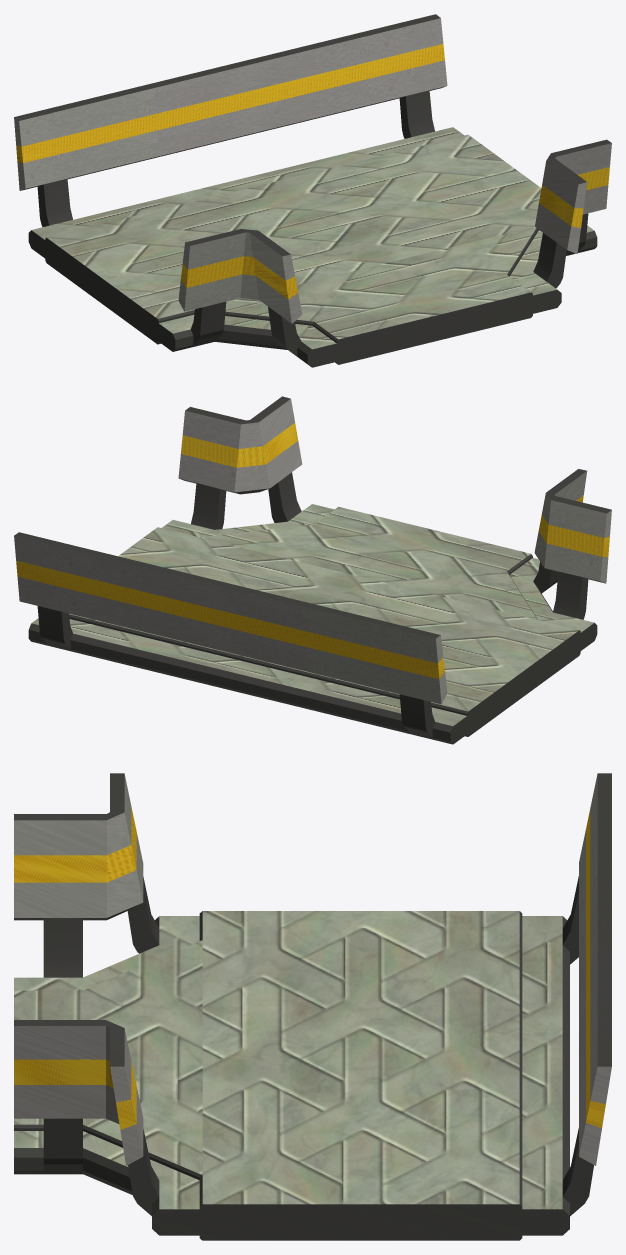
The model's file is 3WayPlatform.fbx.
3 renders of one model, top to bottom at view 1: azimuth 30°, elevation 25°; view 2: azimuth 150°, elevation 25°; view 3: azimuth 270°, elevation 25°, orthographic. The views are drawn at different scales.
Parts seen in each view (by area): view 1: ThreeWayPlatform; view 2: ThreeWayPlatform; view 3: ThreeWayPlatform.
Part boxes in pixels (x1=…): ThreeWayPlatform: x1=14, y1=14, x2=611, y2=367; ThreeWayPlatform: x1=14, y1=396, x2=611, y2=744; ThreeWayPlatform: x1=14, y1=773, x2=611, y2=1240.
Bounding box in the file's own units: 6 × 1.66 × 5.17.
1 material, 1 textured.
